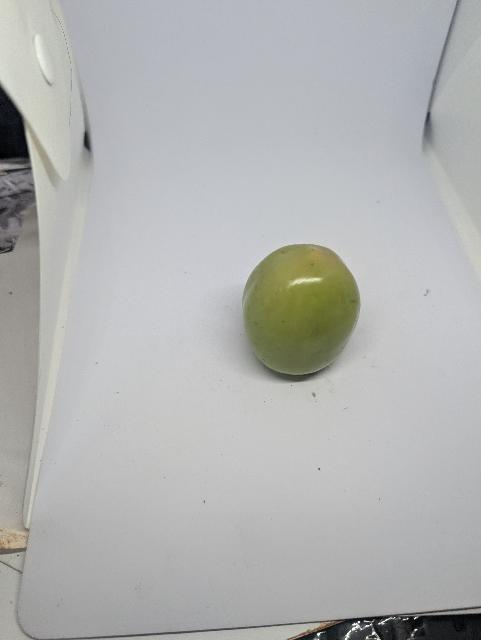green: (240, 240, 363, 378)
